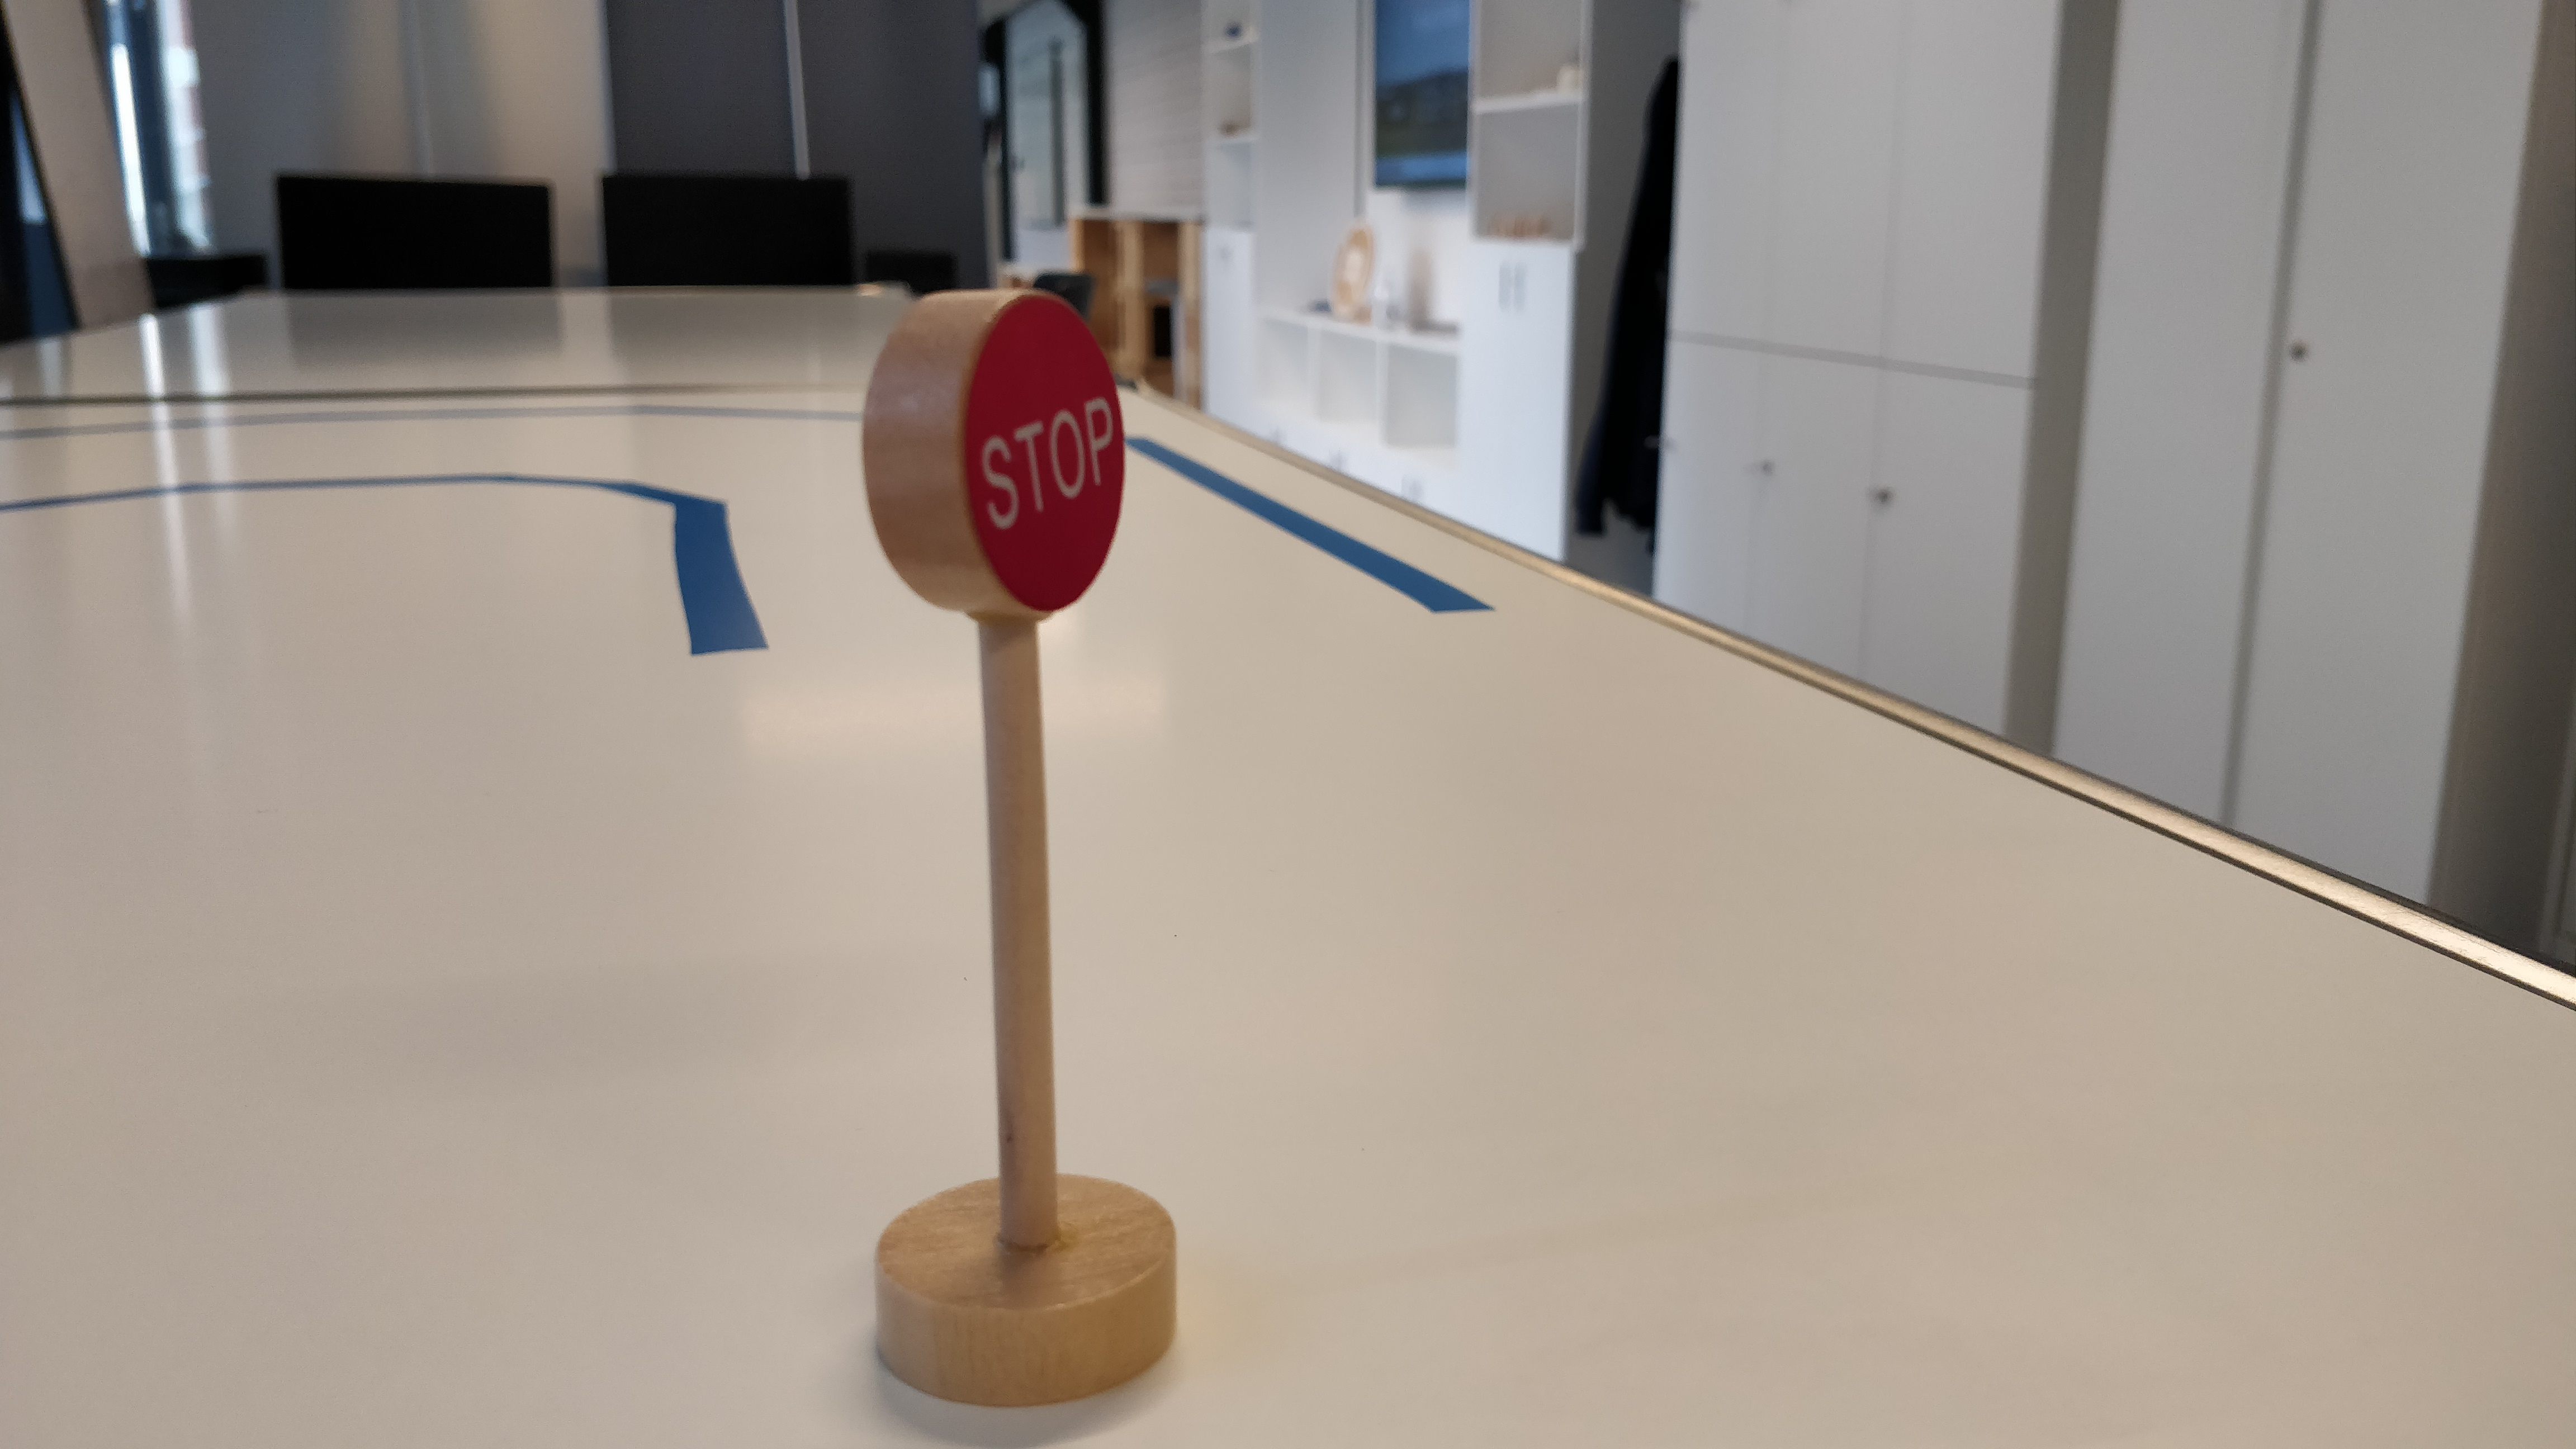Stop Sign: (856, 283, 1128, 624)
